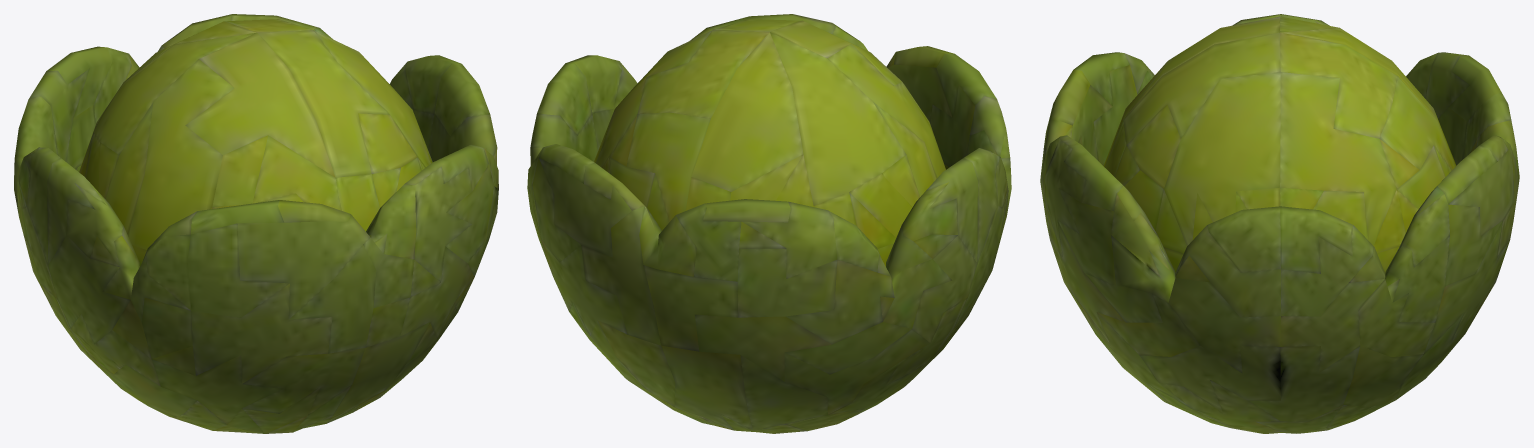
The model's file is cabbage.glb.
3 renders of one model, left to right at view 1: azimuth 30°, elevation 25°; view 2: azimuth 150°, elevation 25°; view 3: azimuth 270°, elevation 25°, orthographic.
Parts seen in each view (by area): view 1: geometry_0; view 2: geometry_0; view 3: geometry_0.
Part boxes in pixels (left/top/right/bottom): geometry_0: left=14, top=14, right=498, bottom=433; geometry_0: left=527, top=14, right=1011, bottom=433; geometry_0: left=1040, top=14, right=1519, bottom=433.
Bounding box in the file's own units: 1 × 0.8537 × 0.9923.
1 material, 1 textured.
